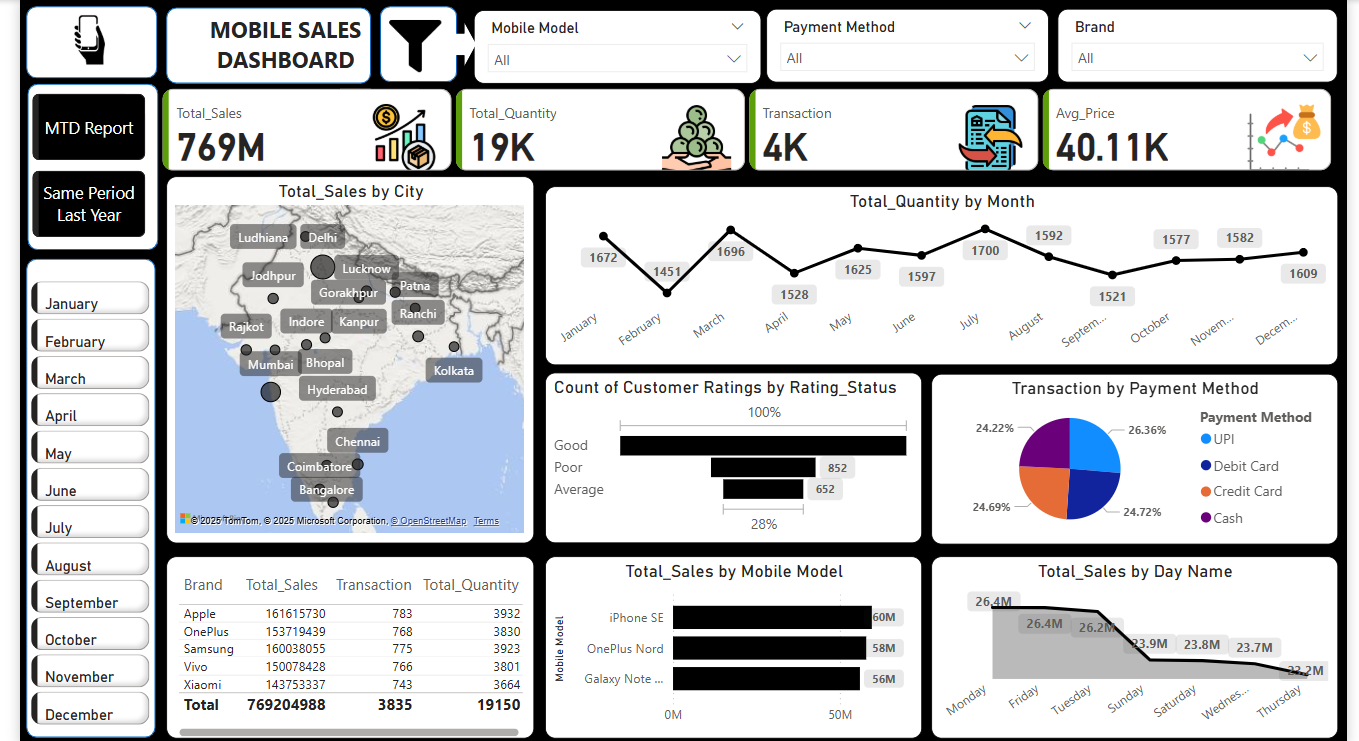

The dashboard page shown, as its layout file describes it:
{"tool":"powerbi","page":{"name":"Dashboard","canvas":[1280,720],"ordinal":0},"visuals":[{"type":"shape","box":[5.5,5.5,126.2,70],"z":0},{"type":"image","box":[12.1,8.4,109.8,60.3],"z":1000},{"type":"shape","box":[6.9,81,126.2,160.5],"z":2000},{"type":"shape","box":[5.5,249.7,124.9,462.4],"z":3000},{"type":"advancedSlicerVisual","fields":{"Values":["Custum_Calender.Data.Variation.Date Hierarchy.Month"]},"box":[5.5,266.2,124.9,446],"z":4000},{"type":"cardVisual","fields":{"Data":["Mobile_Sales_Data.Total_Sales","Mobile_Sales_Data.Total_Quantity","Mobile_Sales_Data.Transaction","Mobile_Sales_Data.Avg_Price"]},"box":[133.1,81,1138.9,89.2],"z":5000},{"type":"slicer","fields":{"Values":["Mobile_Sales_Data.Brand"]},"box":[1001.3,8.4,270.2,71.2],"z":6000},{"type":"slicer","fields":{"Values":["Mobile_Sales_Data.Payment Method"]},"box":[720.2,8.4,272.7,71.2],"z":7000},{"type":"slicer","fields":{"Values":["Mobile_Sales_Data.Mobile Model"]},"box":[437.9,9.7,277.5,71.2],"z":8000},{"type":"shape","box":[347.5,6,74.8,73.6],"z":9000},{"type":"image","box":[347.5,14.5,67.6,60.3],"z":10000},{"type":"shape","box":[417.4,21.7,22.9,42.2],"z":11000},{"type":"shape","box":[141.2,7.2,197.9,73.6],"z":12000},{"type":"textbox","box":[173.7,8.4,165.3,71.2],"z":13000},{"type":"map","fields":{"Category":["Mobile_Sales_Data.City"],"Size":["Mobile_Sales_Data.Total_Sales"]},"box":[141.3,170.2,355.4,354],"z":14000},{"type":"lineChart","fields":{"Category":["Custum_Calender.Data.Variation.Date Hierarchy.Month"],"Y":["Mobile_Sales_Data.Total_Quantity"]},"box":[506.3,179.8,765.7,172.9],"z":15000},{"type":"funnel","fields":{"Y":["CountNonNull(Mobile_Sales_Data.Customer Ratings)"],"Category":["Mobile_Sales_Data.Rating_Status"]},"box":[506.3,359.5,363.6,164.7],"z":16000},{"type":"pieChart","fields":{"Y":["Mobile_Sales_Data.Transaction"],"Category":["Mobile_Sales_Data.Payment Method"]},"box":[879.6,360.9,392.5,164.7],"z":17000},{"type":"clusteredBarChart","fields":{"Y":["Mobile_Sales_Data.Total_Sales"],"Category":["Mobile_Sales_Data.Mobile Model"]},"box":[506.3,536.5,363.6,175.6],"z":18000},{"type":"areaChart","fields":{"Y":["Mobile_Sales_Data.Total_Sales"],"Category":["Custum_Calender.Day Name"]},"box":[879.6,536.5,392.5,175.6],"z":19000},{"type":"tableEx","fields":{"Values":["Mobile_Sales_Data.Brand","Mobile_Sales_Data.Total_Sales","Mobile_Sales_Data.Transaction","Mobile_Sales_Data.Total_Quantity"]},"box":[141.3,536.5,355.4,175.6],"z":20000},{"type":"pageNavigator","box":[12.1,90.5,109.8,139.9],"z":21000}]}

Visuals, with their boxes on the page's 1280x720 design canvas (x1, y1, x2, y2). These are canvas units, not pixel positions in the 1359x741 screenshot, which may show the page scaled, cropped or inside an application window:
shape: bbox=[6, 6, 132, 76]
image: bbox=[12, 8, 122, 69]
shape: bbox=[7, 81, 133, 242]
shape: bbox=[6, 250, 130, 712]
advancedSlicerVisual - Custum_Calender.Data.Variation.Date Hierarchy.Month: bbox=[6, 266, 130, 712]
cardVisual - Mobile_Sales_Data.Total_Sales x Mobile_Sales_Data.Total_Quantity: bbox=[133, 81, 1272, 170]
slicer - Mobile_Sales_Data.Brand: bbox=[1001, 8, 1272, 80]
slicer - Mobile_Sales_Data.Payment Method: bbox=[720, 8, 993, 80]
slicer - Mobile_Sales_Data.Mobile Model: bbox=[438, 10, 715, 81]
shape: bbox=[348, 6, 422, 80]
image: bbox=[348, 14, 415, 75]
shape: bbox=[417, 22, 440, 64]
shape: bbox=[141, 7, 339, 81]
textbox: bbox=[174, 8, 339, 80]
map - Mobile_Sales_Data.City x Mobile_Sales_Data.Total_Sales: bbox=[141, 170, 497, 524]
lineChart - Custum_Calender.Data.Variation.Date Hierarchy.Month x Mobile_Sales_Data.Total_Quantity: bbox=[506, 180, 1272, 353]
funnel - CountNonNull(Mobile_Sales_Data.Customer Ratings) x Mobile_Sales_Data.Rating_Status: bbox=[506, 360, 870, 524]
pieChart - Mobile_Sales_Data.Transaction x Mobile_Sales_Data.Payment Method: bbox=[880, 361, 1272, 526]
clusteredBarChart - Mobile_Sales_Data.Total_Sales x Mobile_Sales_Data.Mobile Model: bbox=[506, 536, 870, 712]
areaChart - Mobile_Sales_Data.Total_Sales x Custum_Calender.Day Name: bbox=[880, 536, 1272, 712]
tableEx - Mobile_Sales_Data.Brand x Mobile_Sales_Data.Total_Sales: bbox=[141, 536, 497, 712]
pageNavigator: bbox=[12, 90, 122, 230]
